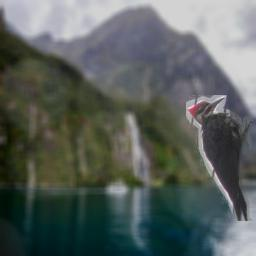Woodpecker: (186, 95, 253, 221)
